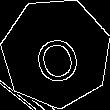O_N: (28, 22, 84, 84)
